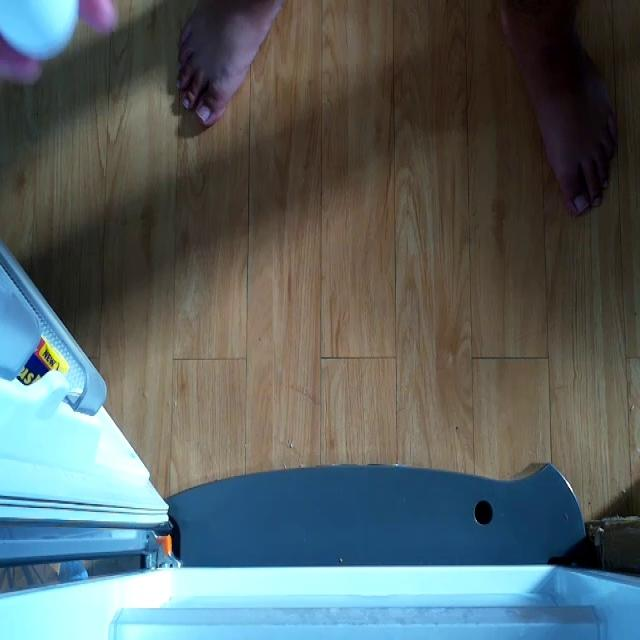egg: (2, 0, 82, 63)
